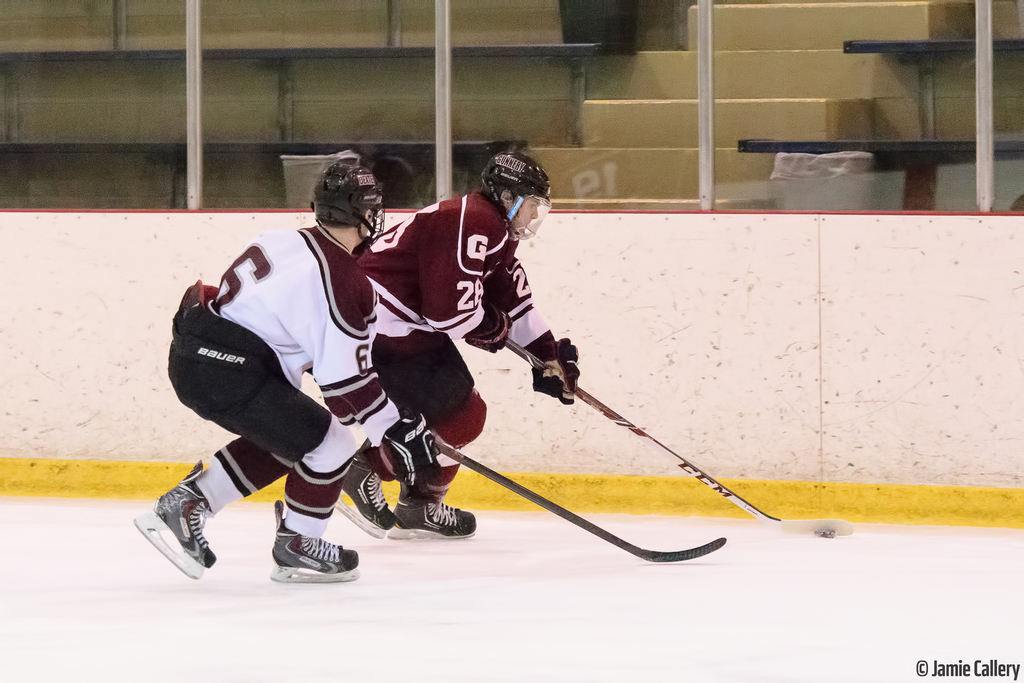Person: (133, 156, 441, 582), (306, 150, 580, 541)
